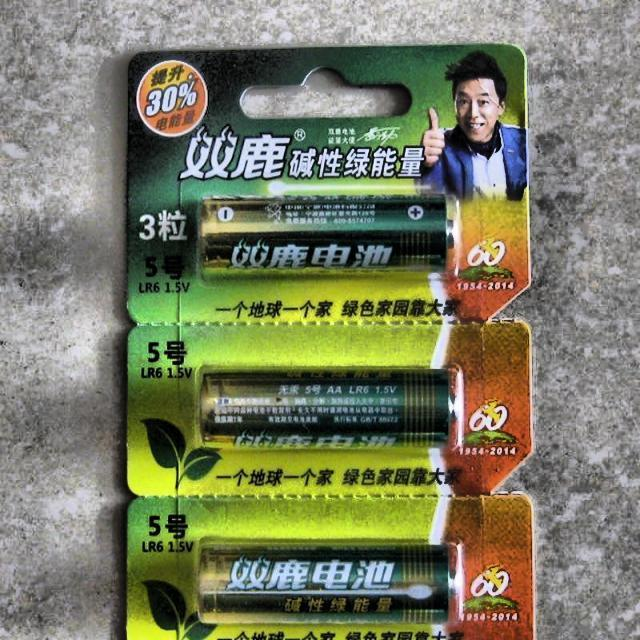battery: (200, 370, 454, 448), (200, 196, 449, 274), (199, 546, 451, 623)
